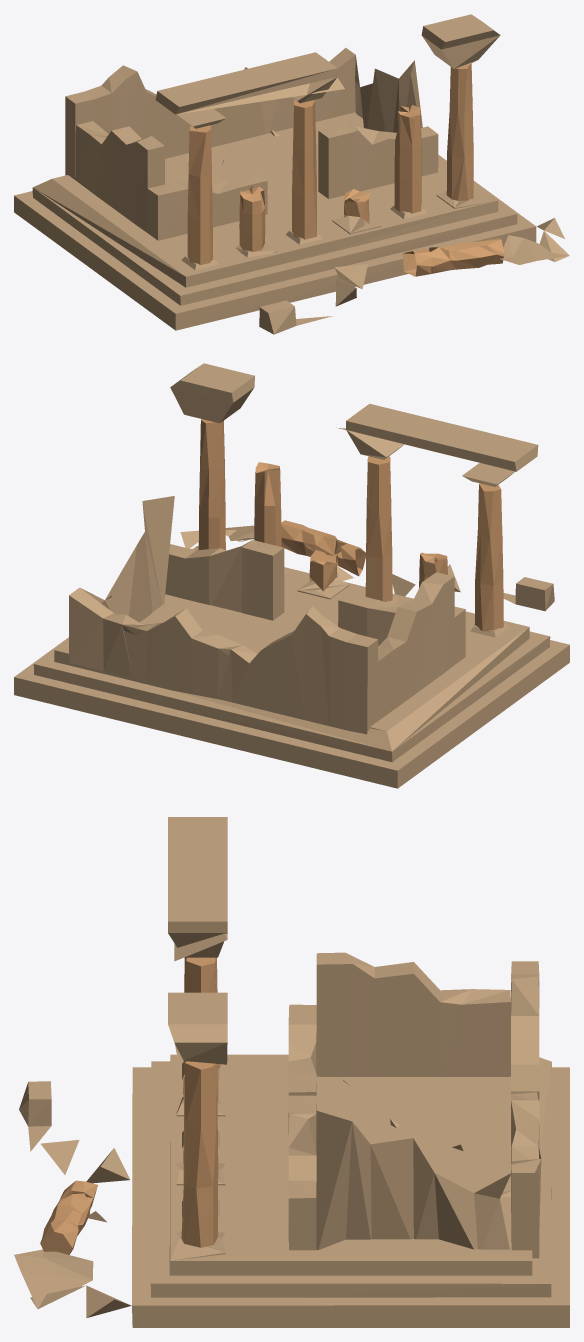
The model's file is temple-ruin-lod1.glb.
The picture shows the model from 3 angles, top to bottom: view 1: azimuth 30°, elevation 25°; view 2: azimuth 150°, elevation 25°; view 3: azimuth 270°, elevation 25°; orthographic projection. The views are drawn at different scales.
Size of the model in its own units: 18.56 by 10 by 17.74.
